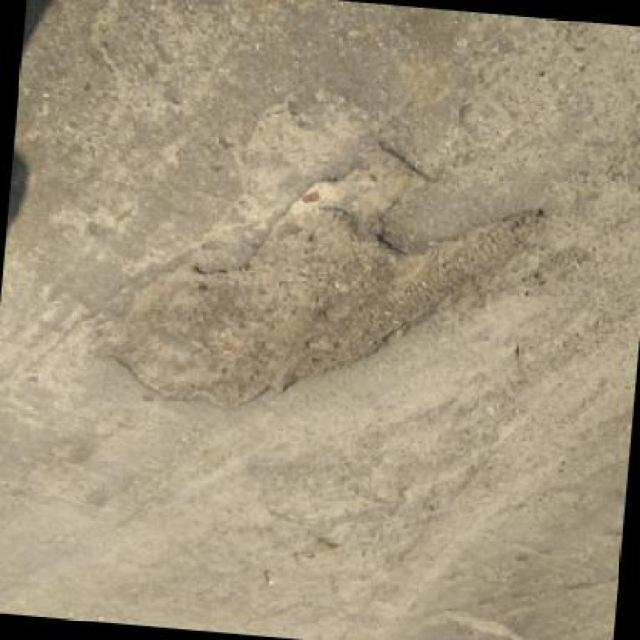pothole: (79, 115, 558, 443)
